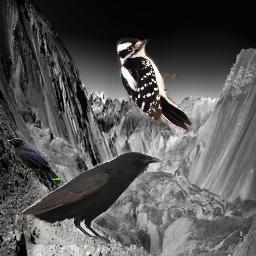Crow: (19, 150, 162, 245), (6, 138, 61, 184)
Woodpecker: (116, 38, 193, 133)
